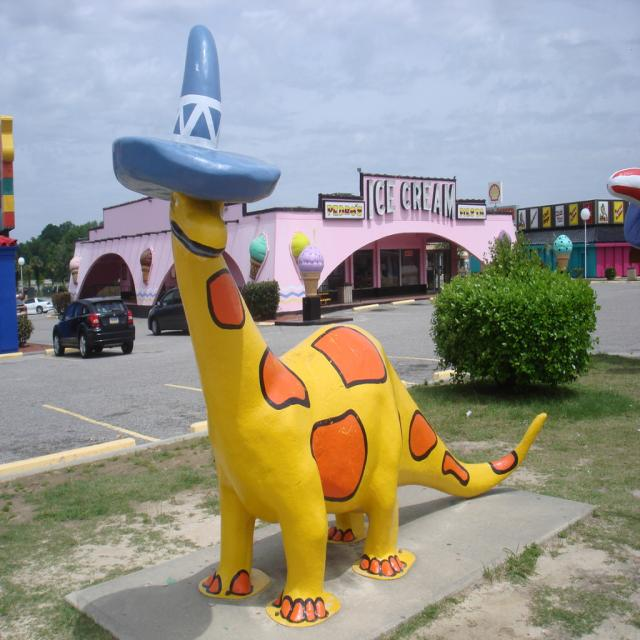car: (50, 292, 137, 362), (27, 296, 50, 317)
